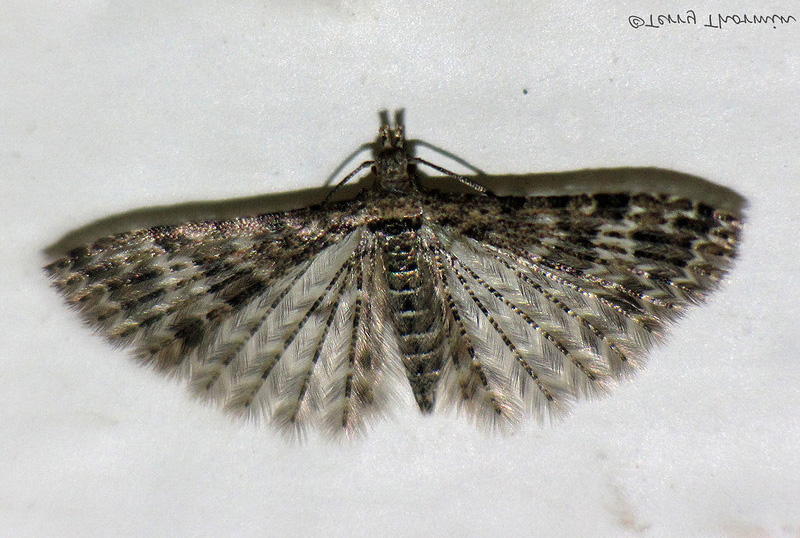Alucitidae: (33, 109, 749, 449)
moth: (35, 111, 751, 451)
